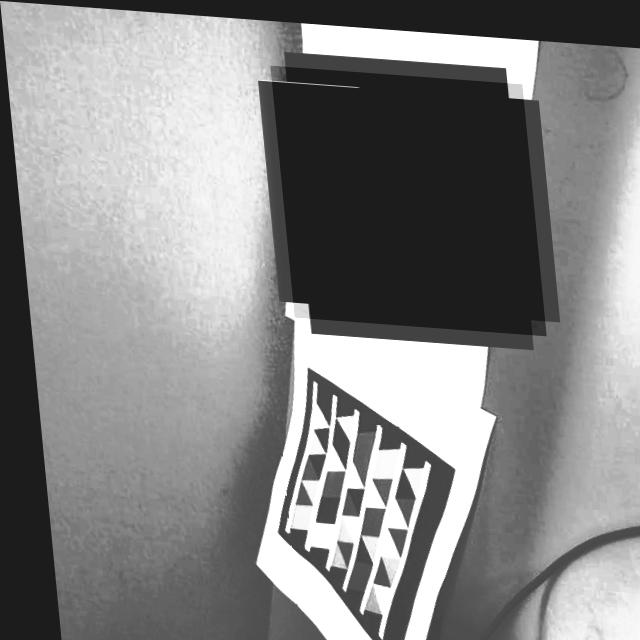qr_code: (270, 61, 541, 327)
